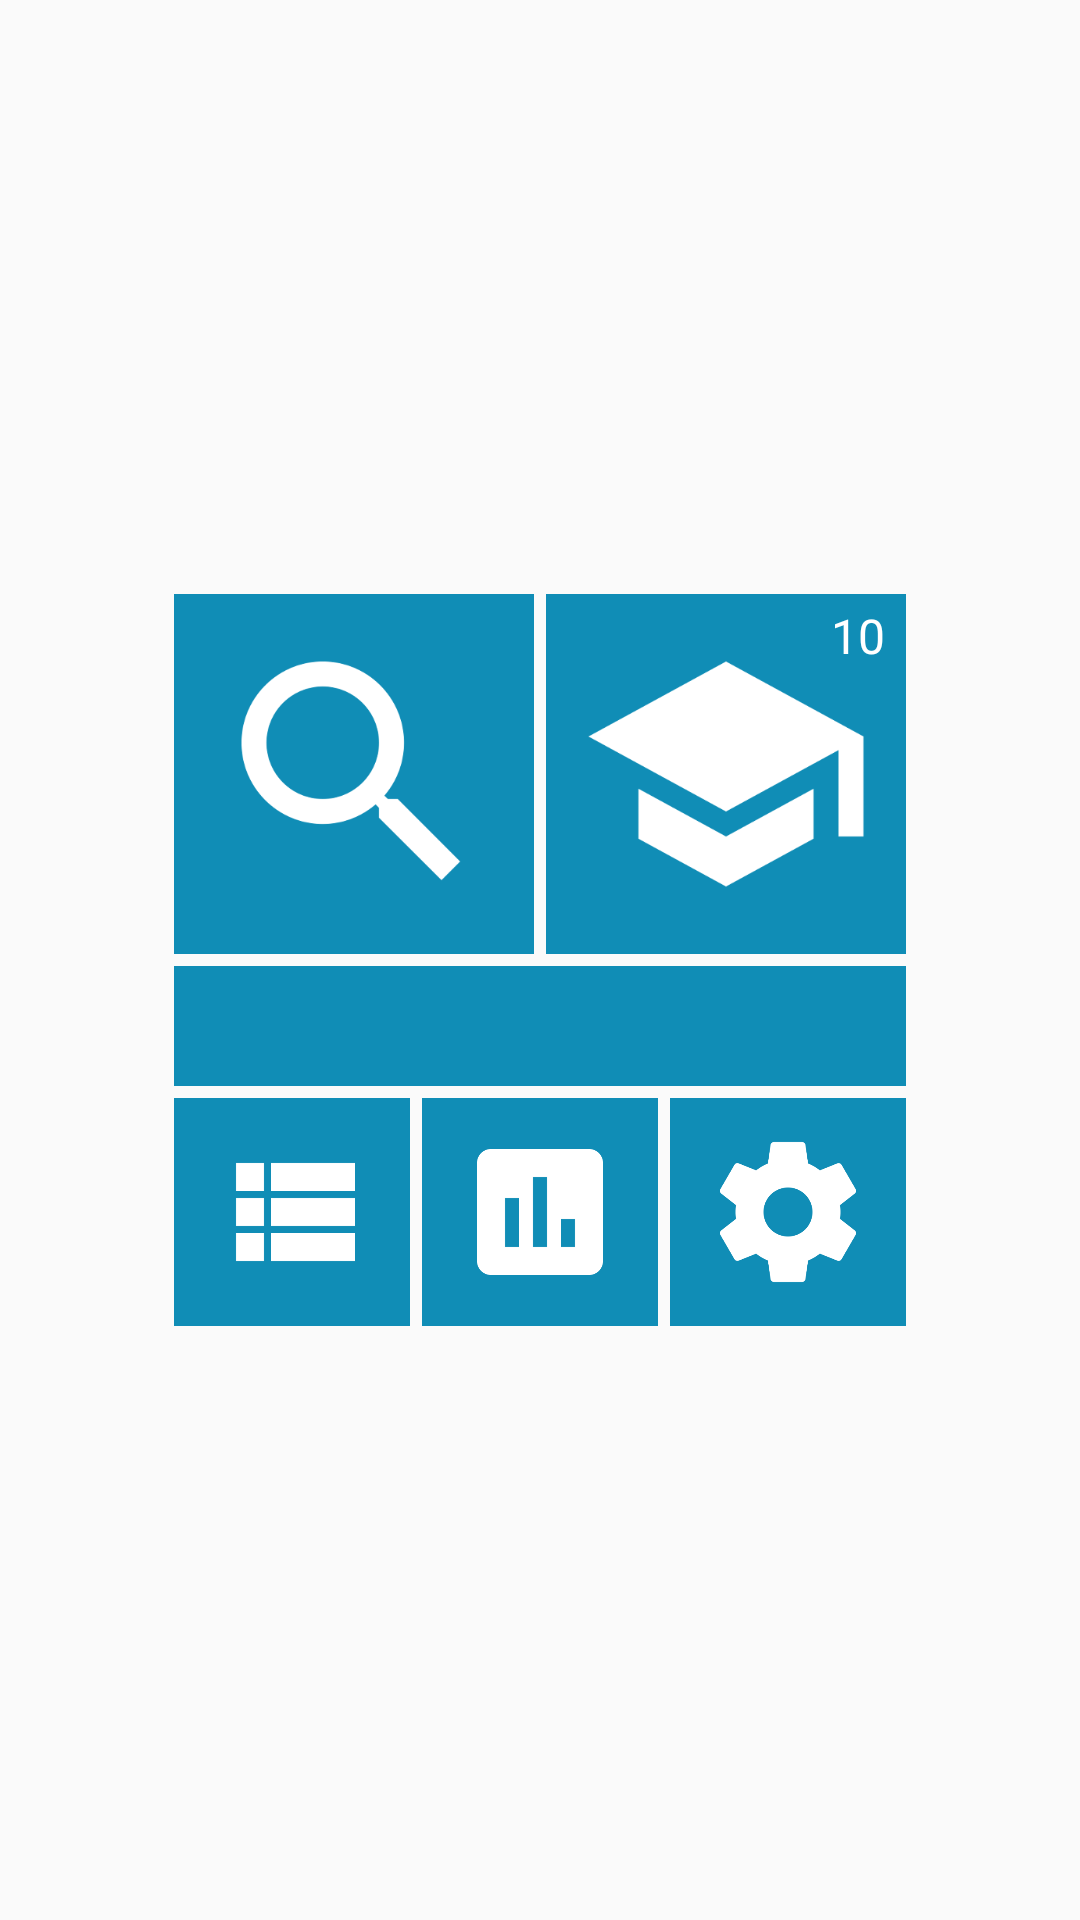

Screen size 1080 × 1920. Icon name, then its box in pixels as (x1=x1, y1=y1, x2=x2, y2=y2):
insert chart: (x1=422, y1=1098, x2=658, y2=1326)
school: (x1=546, y1=594, x2=906, y2=954)
search: (x1=174, y1=594, x2=534, y2=954)
settings: (x1=670, y1=1098, x2=906, y2=1326)
view list: (x1=174, y1=1098, x2=410, y2=1326)
